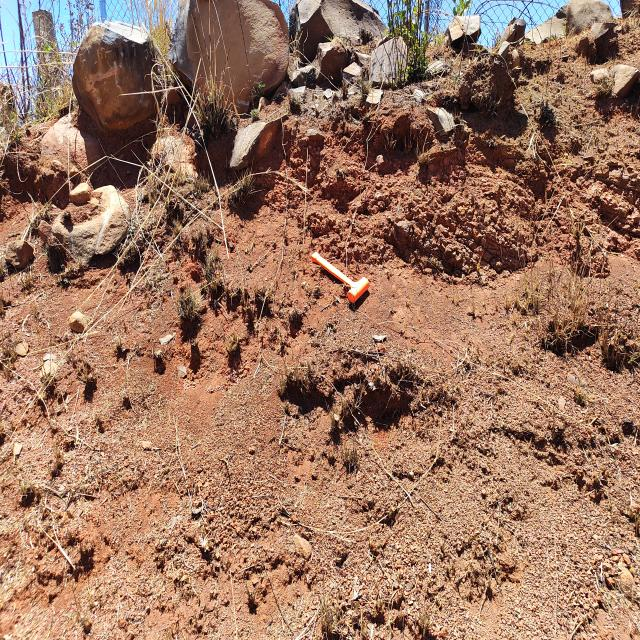Orange_hammer: (310, 251, 370, 304)
